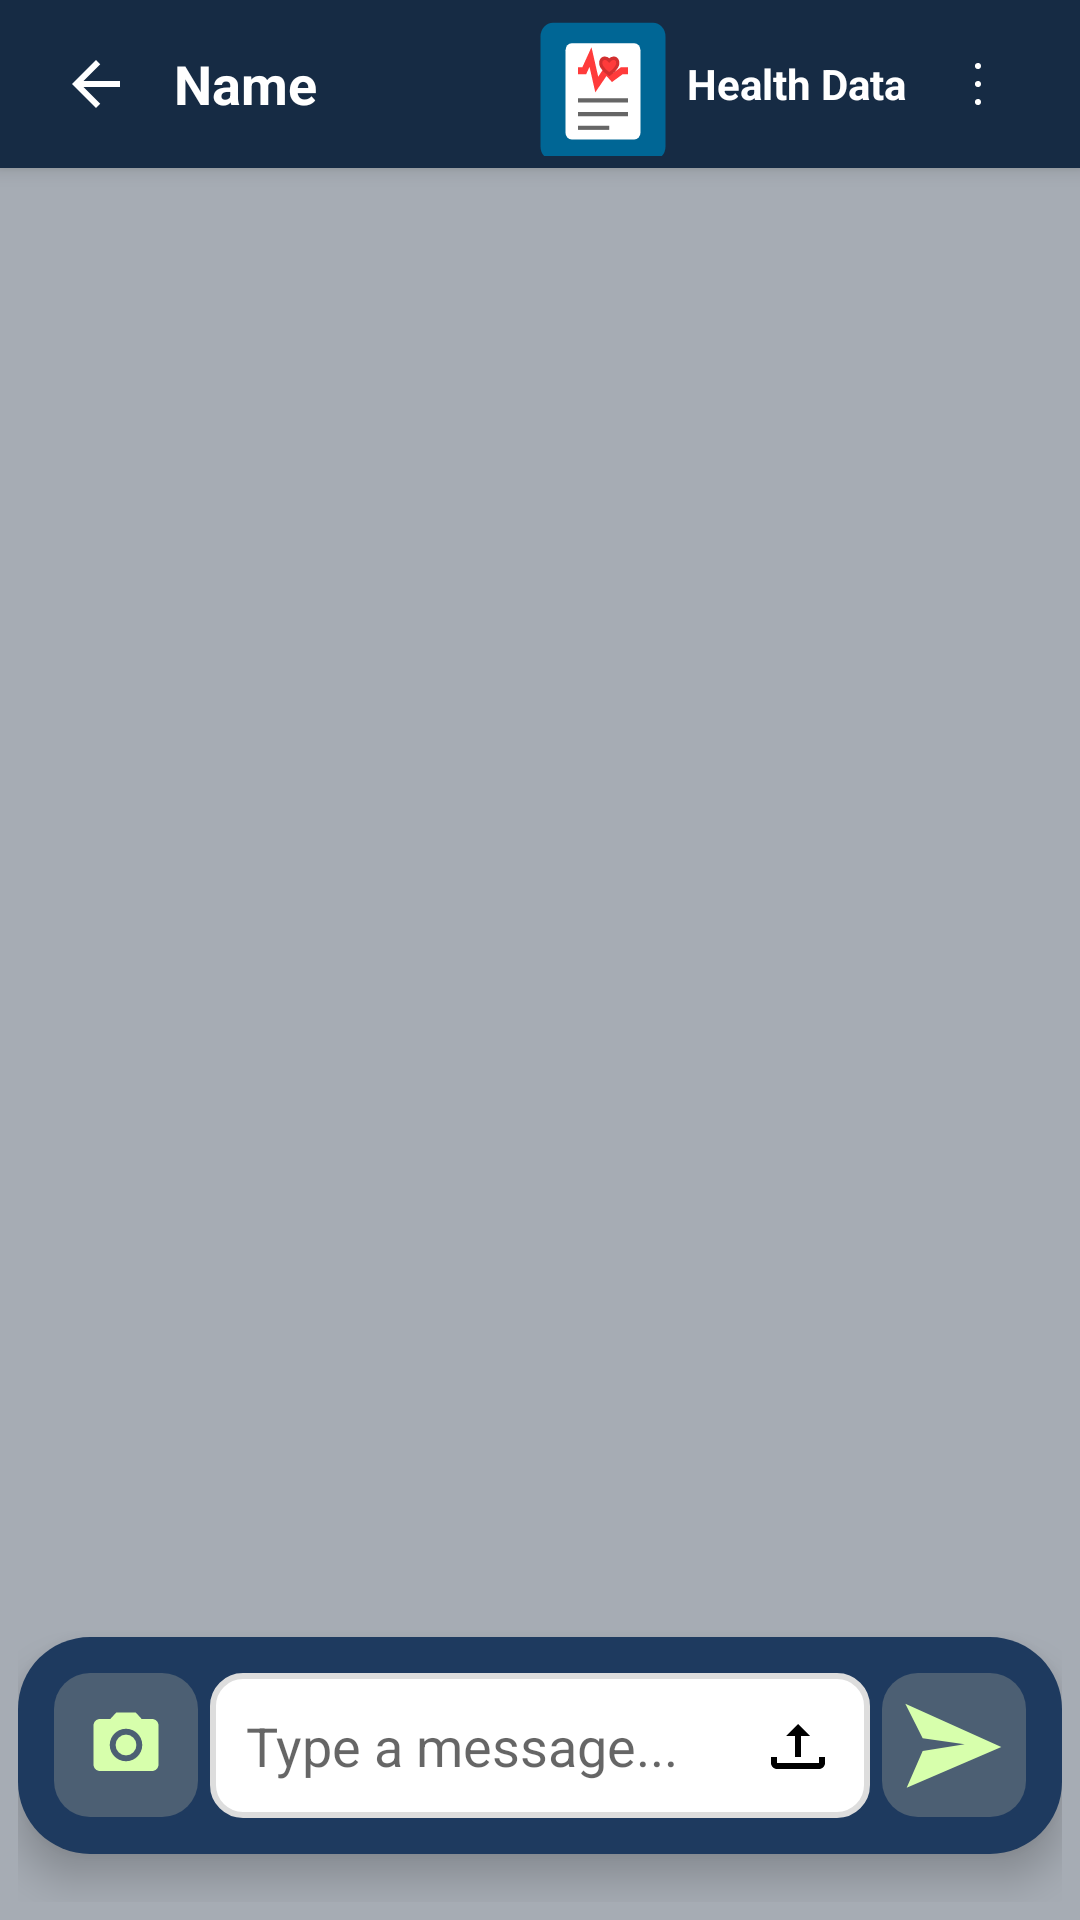

Where to tap for icons on this 1080px x 1920px app screen, as [x,y]:
Back: [96,84]
camera: [126,1745]
Health Info: [603,89]
send: [954,1745]
upload: [798,1746]
